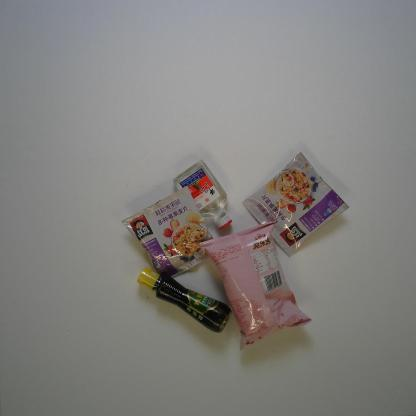Alcohol: (172, 158, 233, 232)
Instant Drink: (241, 152, 351, 258), (121, 186, 215, 280)
Puffed Food: (199, 222, 313, 354)
Seasoner: (136, 267, 232, 335)
